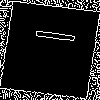I: (25, 24, 75, 45)
